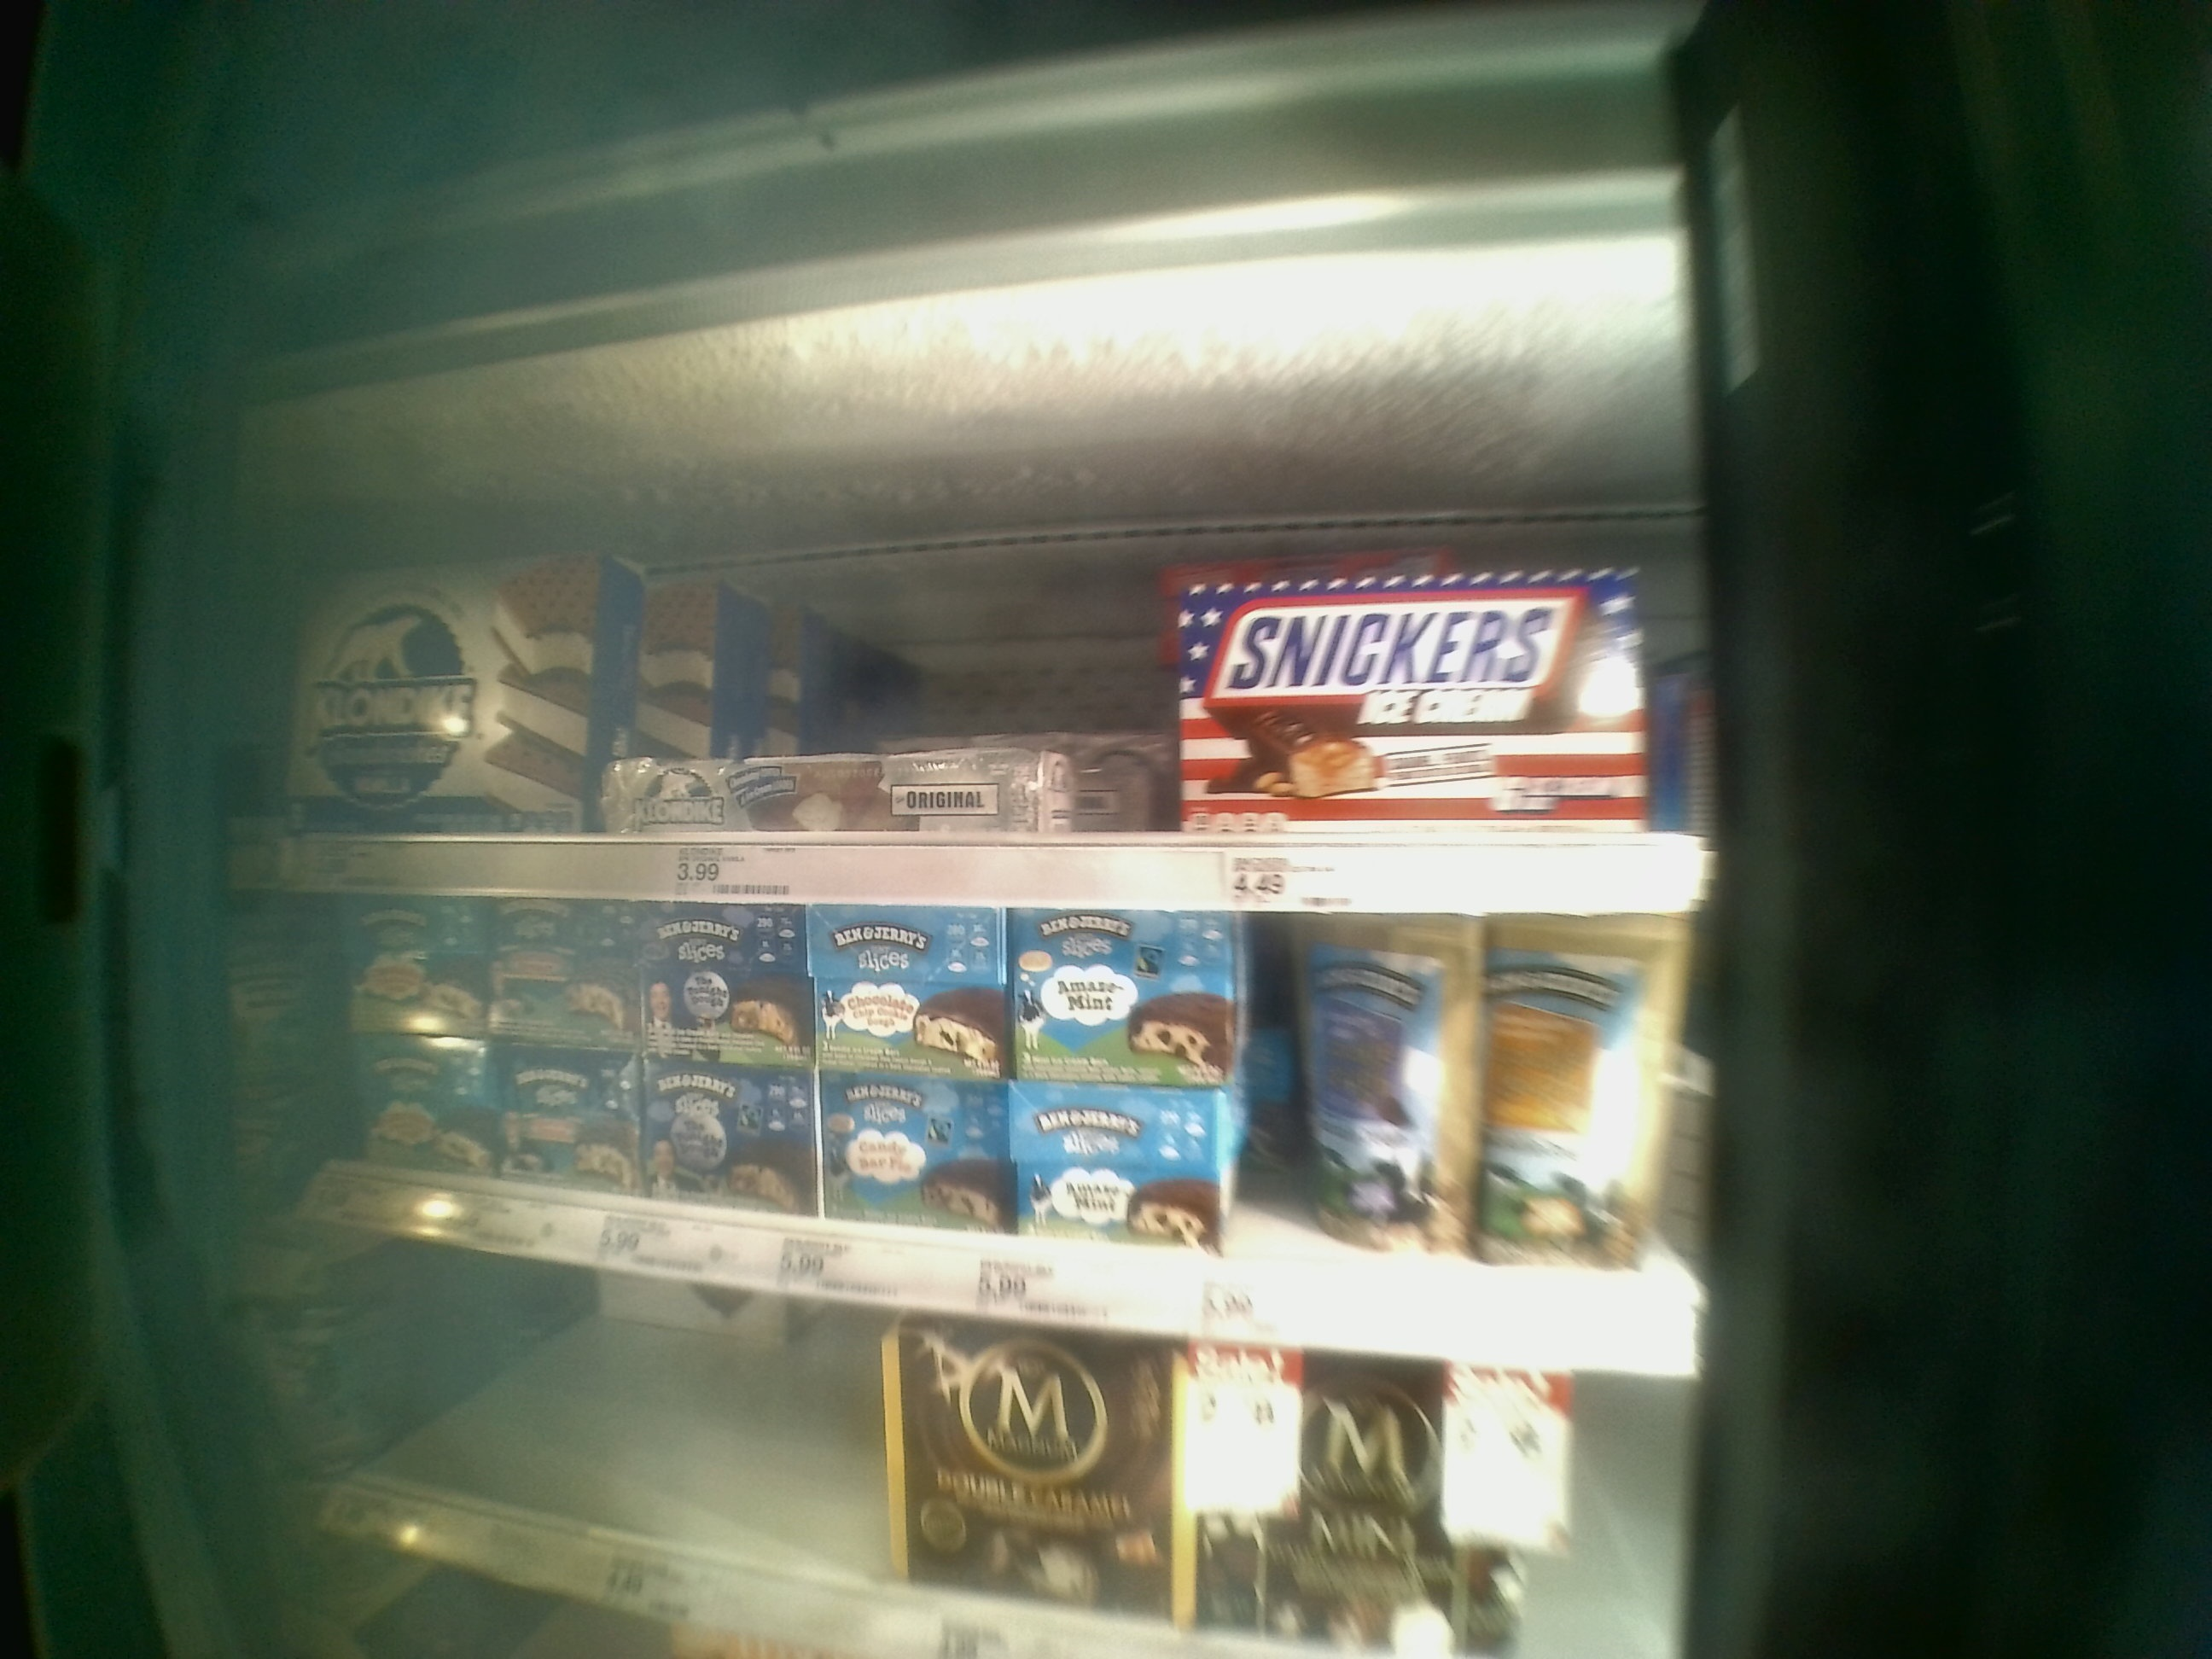shelf: (244, 897, 1709, 1389), (240, 448, 1700, 910)
